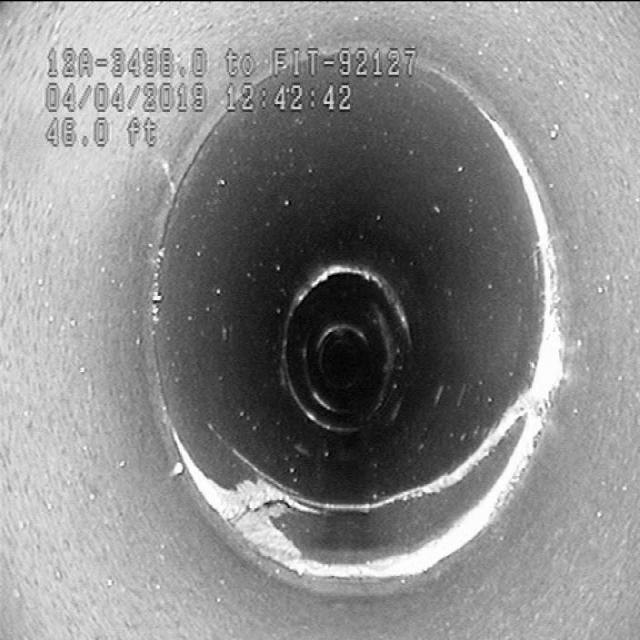Fracture: (222, 410, 546, 520)
